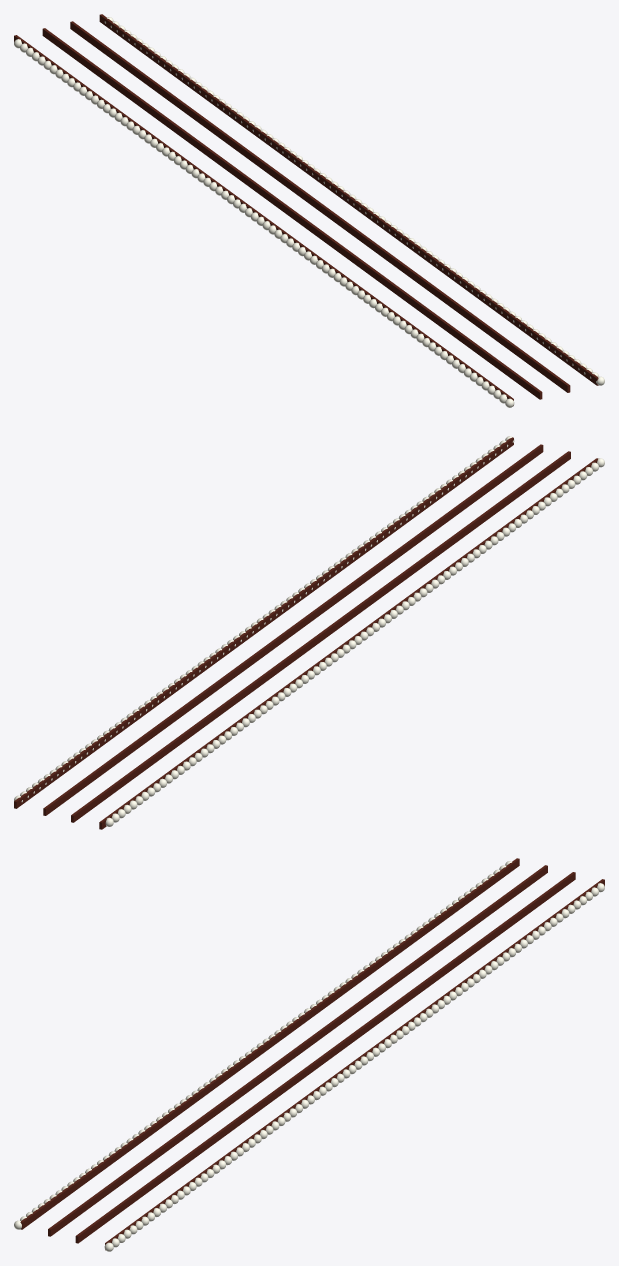
File: bridge.fbx
The picture shows the model from 3 angles, top to bottom: view 1: azimuth 30°, elevation 25°; view 2: azimuth 150°, elevation 25°; view 3: azimuth 330°, elevation 25°; orthographic projection.
Visible parts, largest first — view 1: lights_bridge3, polySurface544, polySurface549, polySurface547, polySurface546; view 2: lights_bridge3, polySurface544, polySurface549, polySurface547, polySurface546; view 3: lights_bridge3, polySurface544, polySurface549, polySurface546, polySurface547.
Part boxes in pixels (x1,y1,x2,y2): lights_bridge3: [14, 17, 604, 407]; polySurface544: [70, 21, 570, 392]; polySurface549: [42, 28, 542, 399]; polySurface547: [99, 14, 598, 385]; polySurface546: [14, 35, 513, 405]; lights_bridge3: [14, 436, 604, 826]; polySurface544: [43, 444, 543, 815]; polySurface549: [71, 451, 570, 822]; polySurface547: [14, 437, 513, 808]; polySurface546: [99, 458, 598, 829]; lights_bridge3: [14, 861, 604, 1251]; polySurface544: [75, 872, 575, 1243]; polySurface549: [48, 865, 547, 1236]; polySurface546: [20, 858, 519, 1229]; polySurface547: [105, 879, 604, 1250].
Bounding box in the file's own units: 19.25 × 1.56 × 169.
